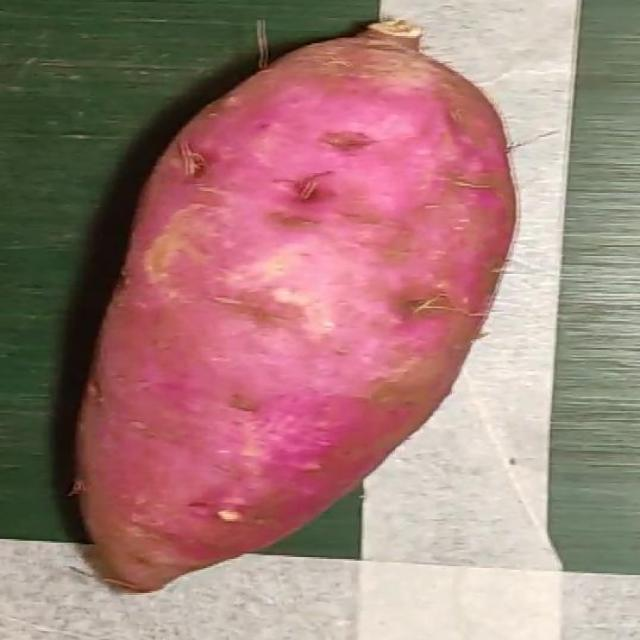Sweet Potato: (71, 19, 519, 595)
